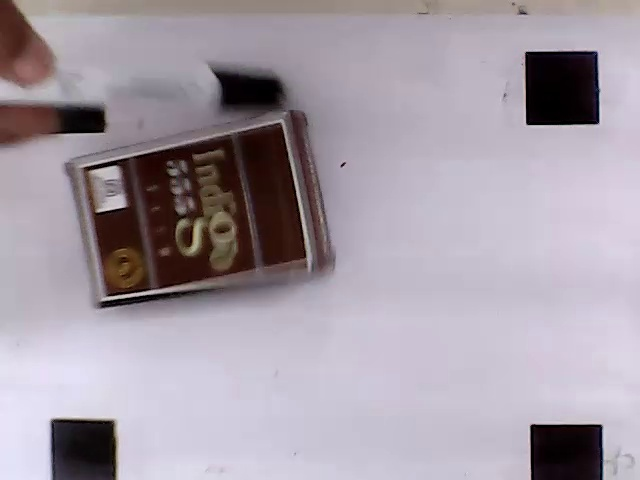BEX: (81, 121, 309, 298)
